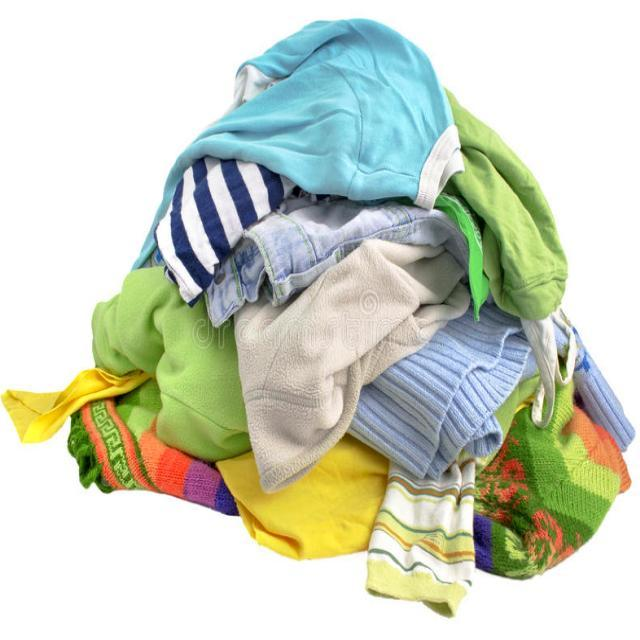clothes: (172, 29, 630, 610)
